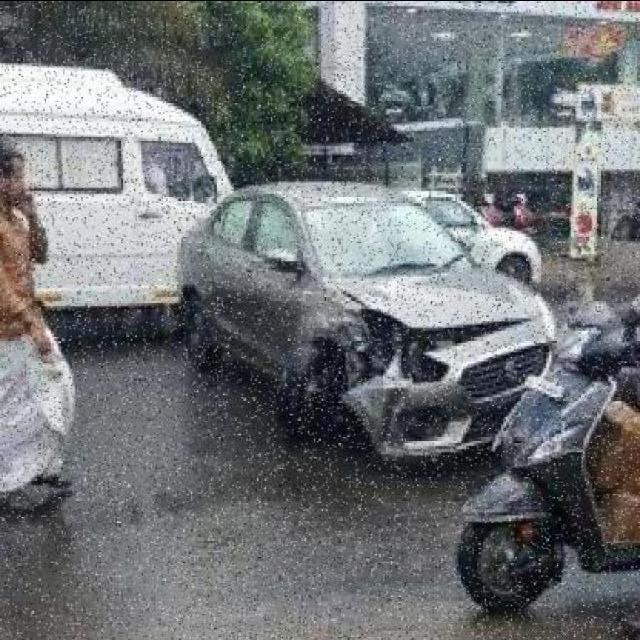front-bumper-dent: (362, 321, 552, 458)
